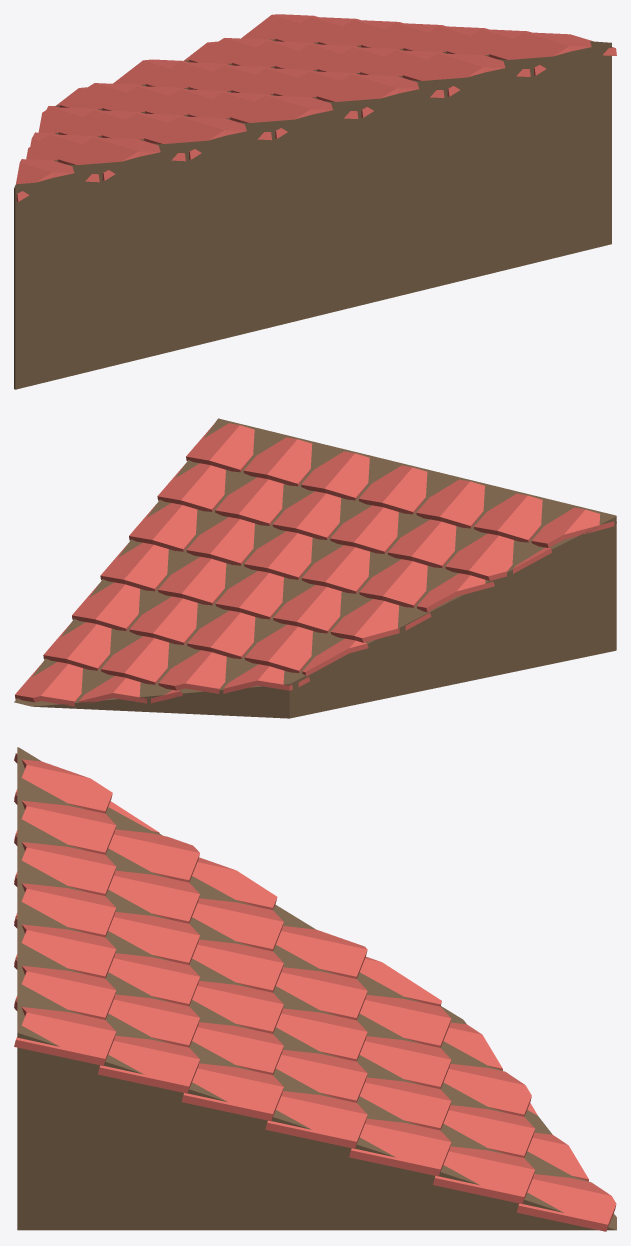
The model's file is Roof_with_plank_triangle.fbx.
3 renders of one model, top to bottom at view 1: azimuth 30°, elevation 25°; view 2: azimuth 150°, elevation 25°; view 3: azimuth 270°, elevation 25°, orthographic. The views are drawn at different scales.
Visible parts, largest first — view 1: Cube.009, Cube.008; view 2: Cube.008, Cube.009; view 3: Cube.008, Cube.009.
Part boxes in pixels (x1,y1,x2,y2): Cube.009: (14,39,611,389); Cube.008: (16,14,616,201); Cube.008: (15,423,616,706); Cube.009: (14,418,616,718); Cube.008: (14,753,616,1231); Cube.009: (17,747,616,1230).
Bounding box in the file's own units: 468 × 152 × 415.
